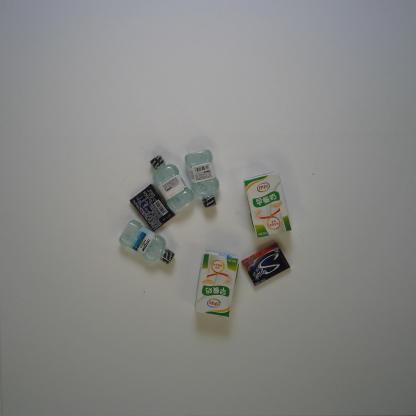Gum: (128, 182, 176, 233), (240, 241, 291, 288)
Milk: (243, 171, 292, 239), (193, 250, 240, 319)
Personal Hygiene: (118, 219, 176, 266), (149, 154, 195, 212), (184, 148, 220, 208)
